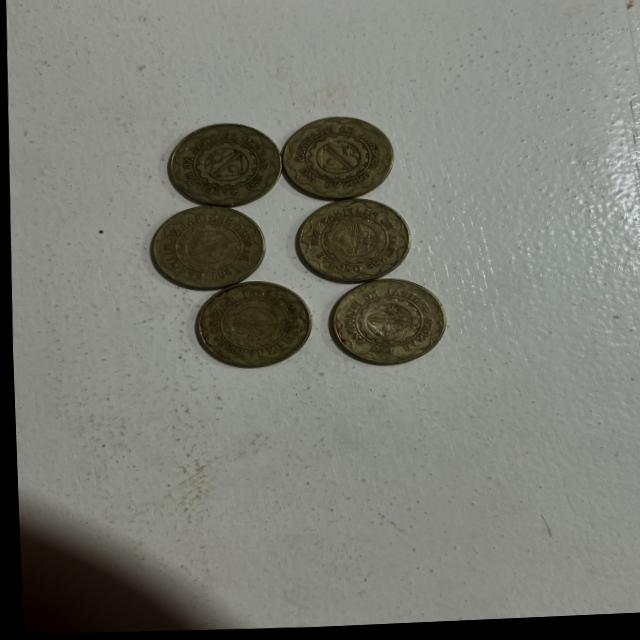5_Old_Back: (190, 279, 308, 369), (166, 120, 280, 209), (280, 116, 400, 200), (296, 197, 413, 283), (332, 279, 445, 365), (154, 210, 263, 291)
